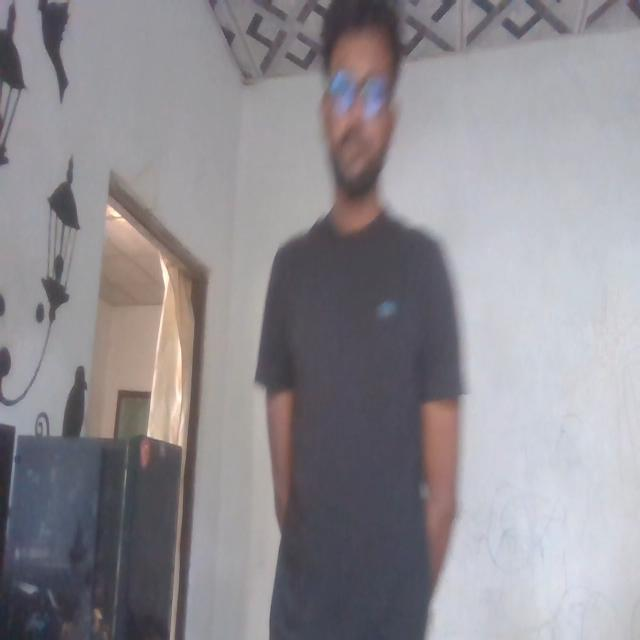Person: (233, 3, 460, 640)
